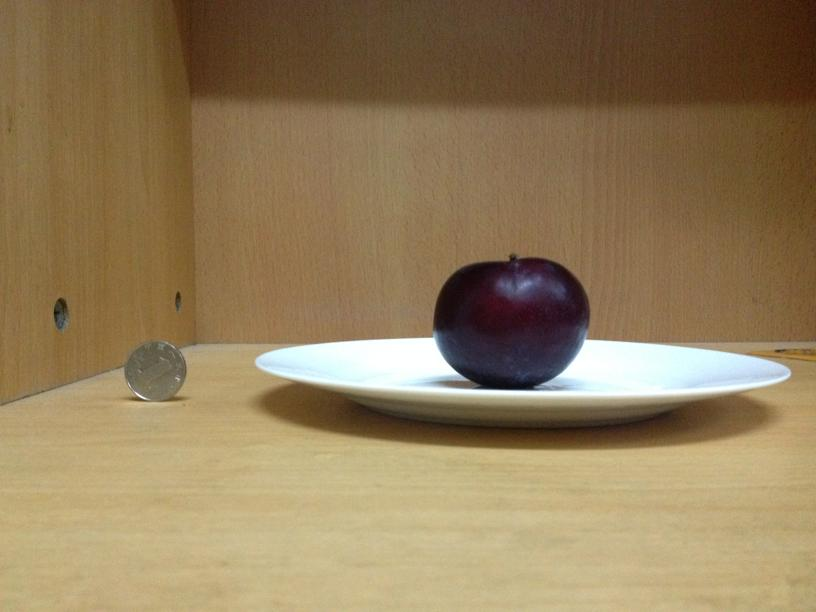coin: (118, 337, 188, 402)
plum: (429, 256, 587, 387)
